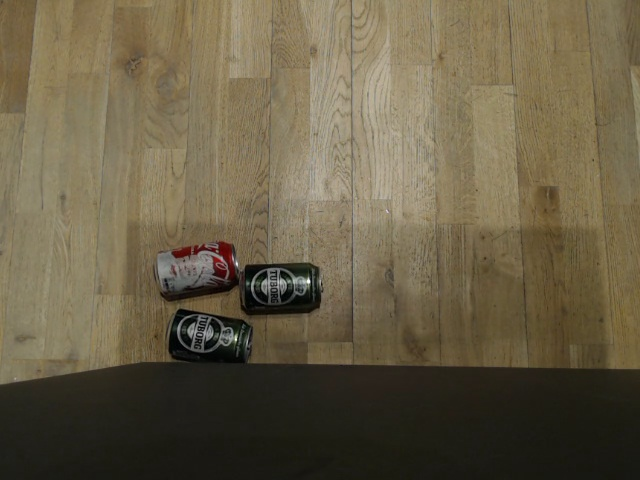beer: (240, 254, 328, 316), (160, 310, 255, 364)
cola: (148, 239, 241, 299)
